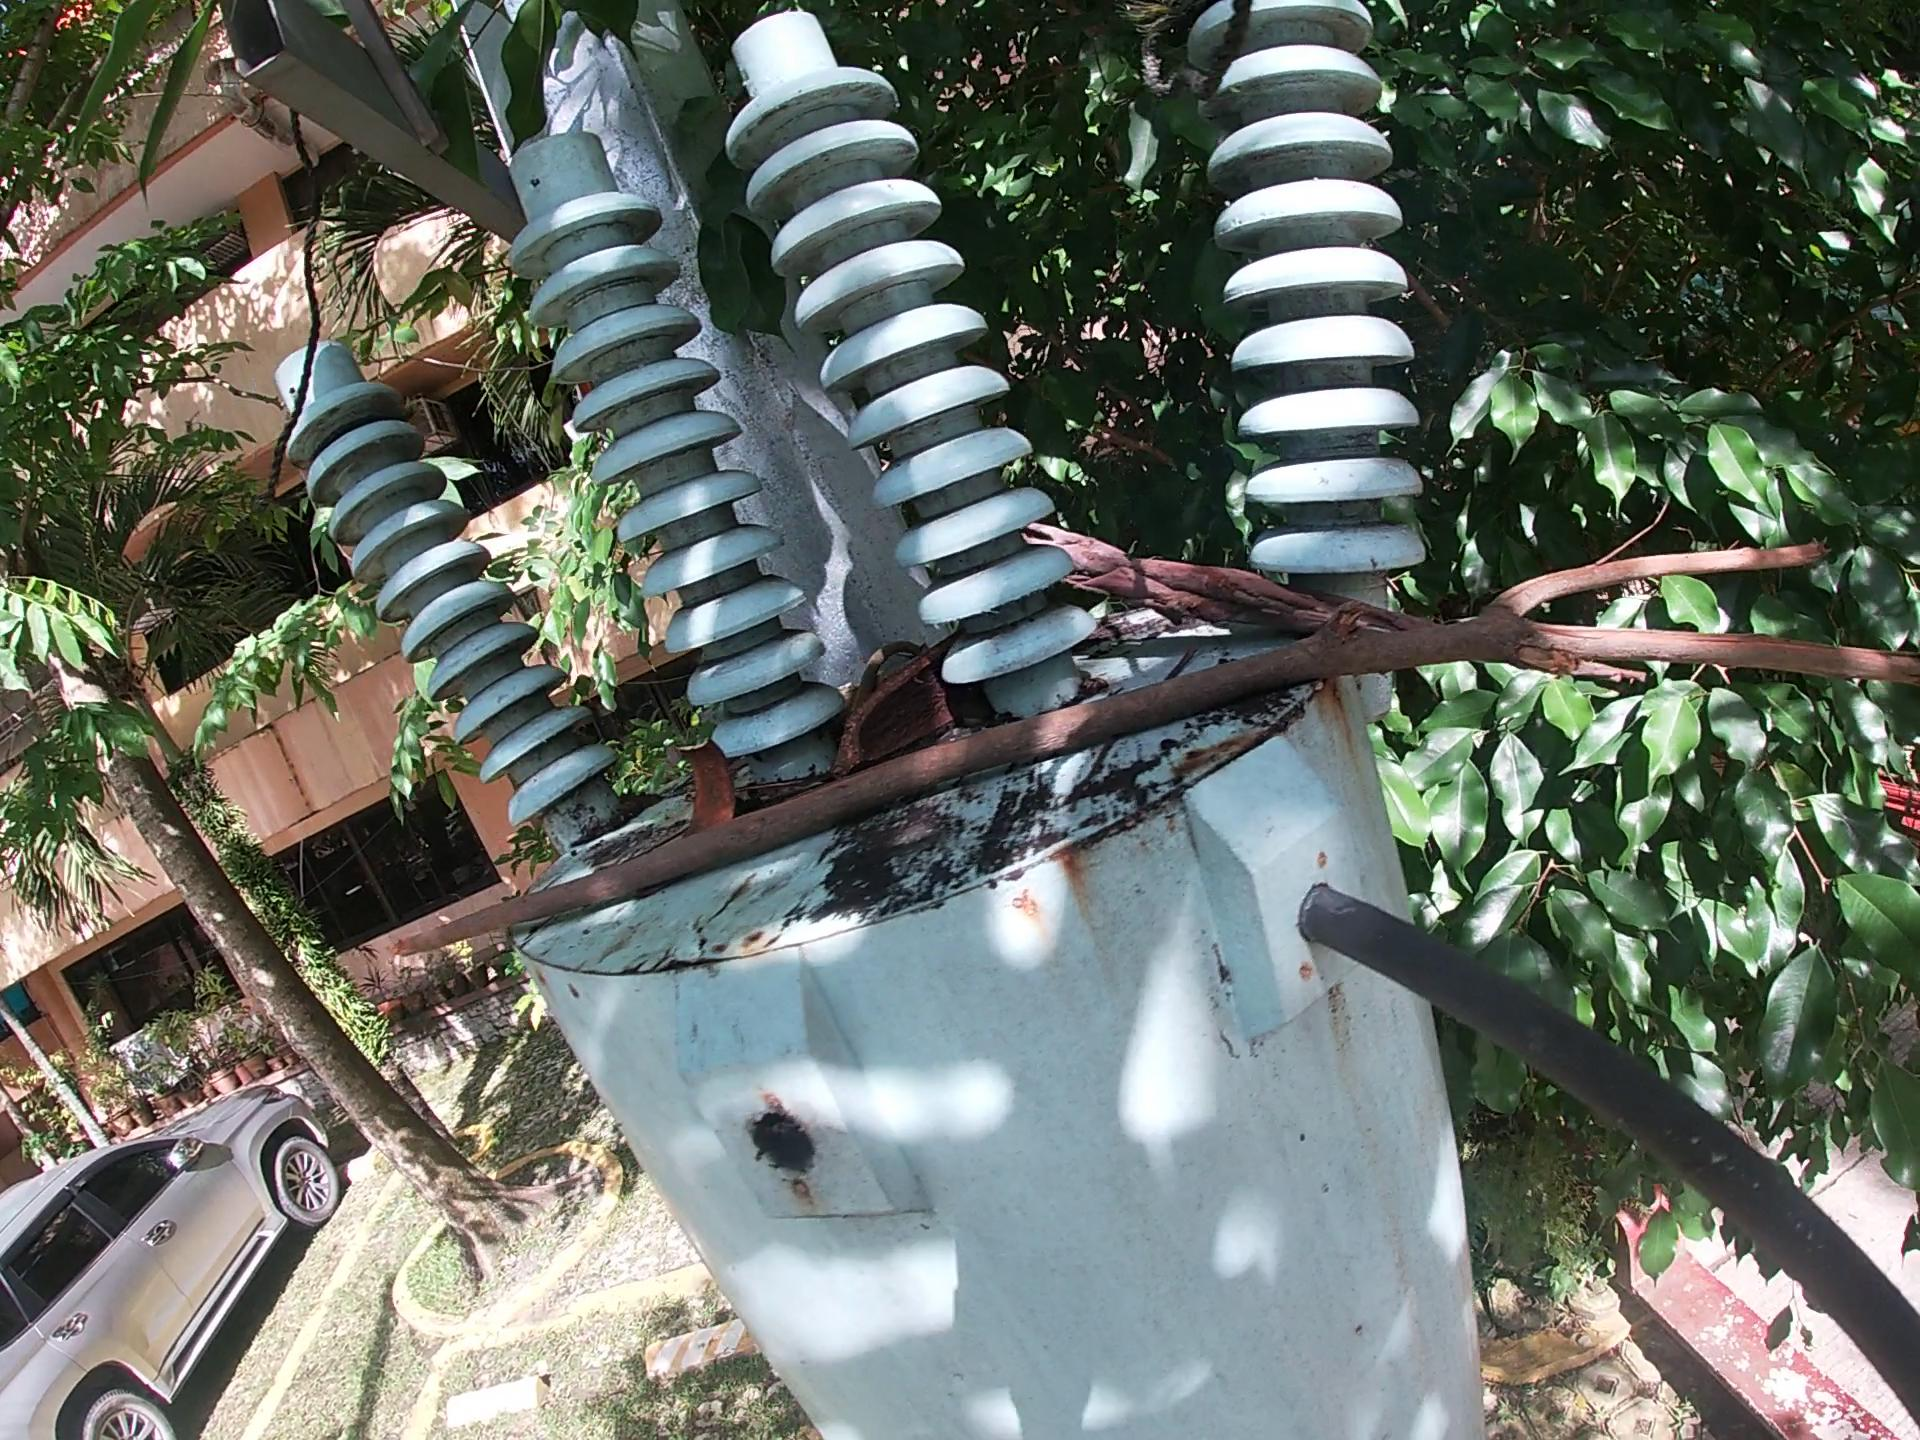mahogany fruit: (822, 622, 977, 785), (685, 728, 742, 827)
tree branch: (375, 520, 1920, 979), (1022, 520, 1654, 706)
